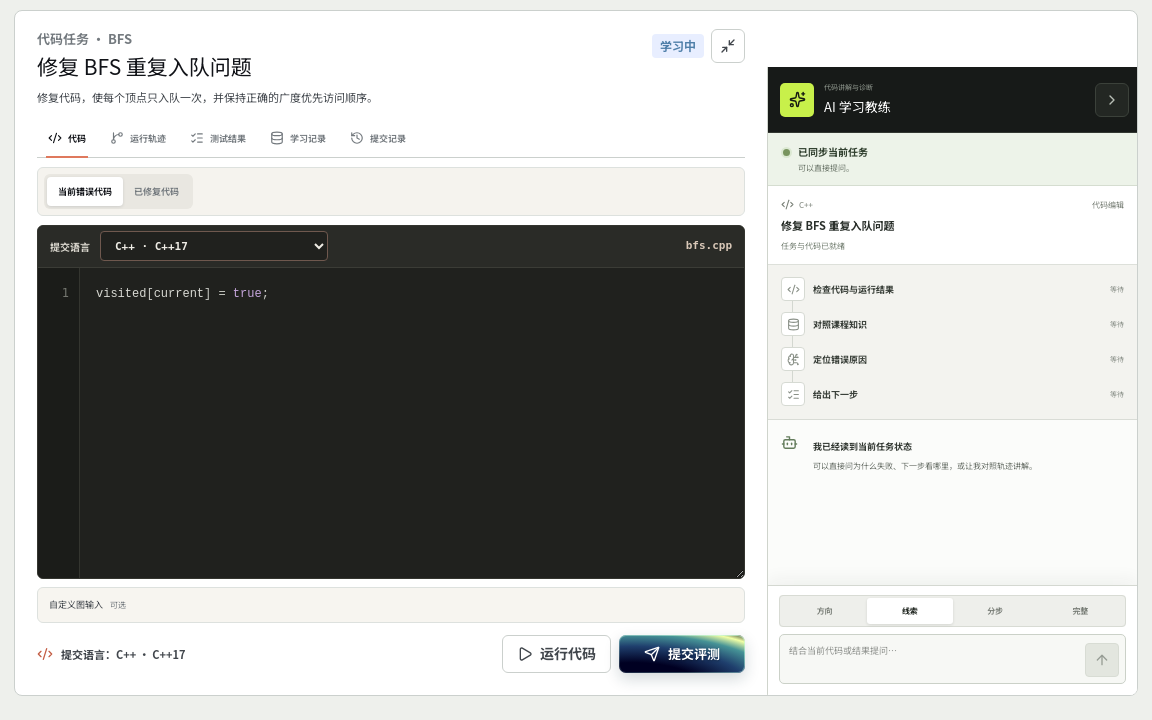
Test: WorkbenchPage › keeps the AI coach visible in focus mode and allows either side context to expand
Expected: the button named "退出专注模式" is shown, top-left (711, 29), bottom-right (745, 63)
Expected: the element "AI 学习教练" is shown, top-left (767, 67), bottom-right (1137, 695)
Click the button named "折叠 AI 学习教练".
click(1112, 99)  # box top-left (1095, 82), bottom-right (1129, 116)
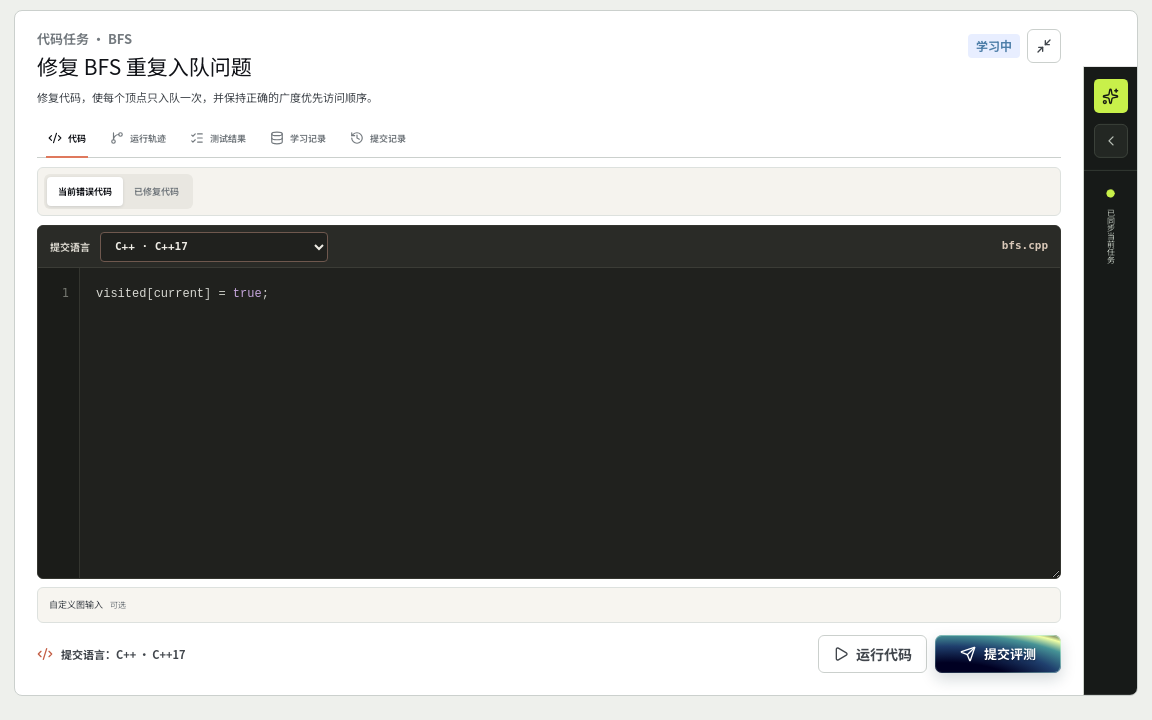
Result: the button named "展开 AI 学习教练" is shown at top-left (1094, 124), bottom-right (1128, 158)
Click the button named "退出专注模式".
click(1044, 46)  # box top-left (1027, 29), bottom-right (1061, 63)
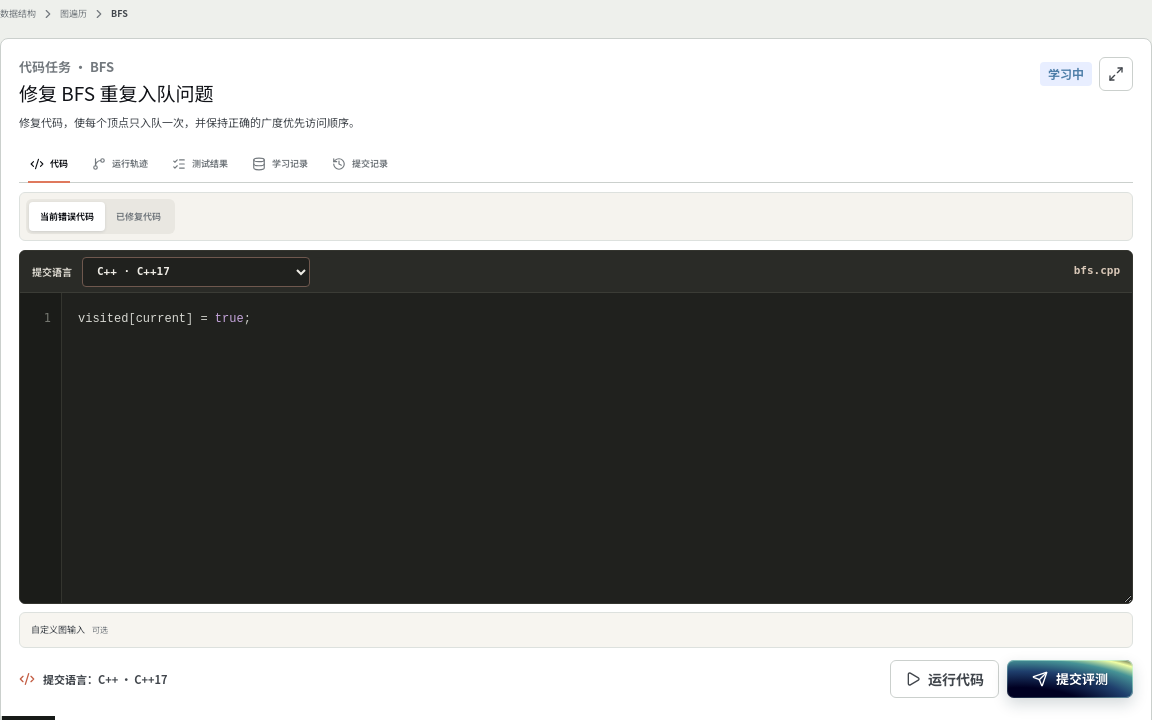
Result: the button named "进入专注模式" is shown at top-left (1099, 57), bottom-right (1133, 91)
